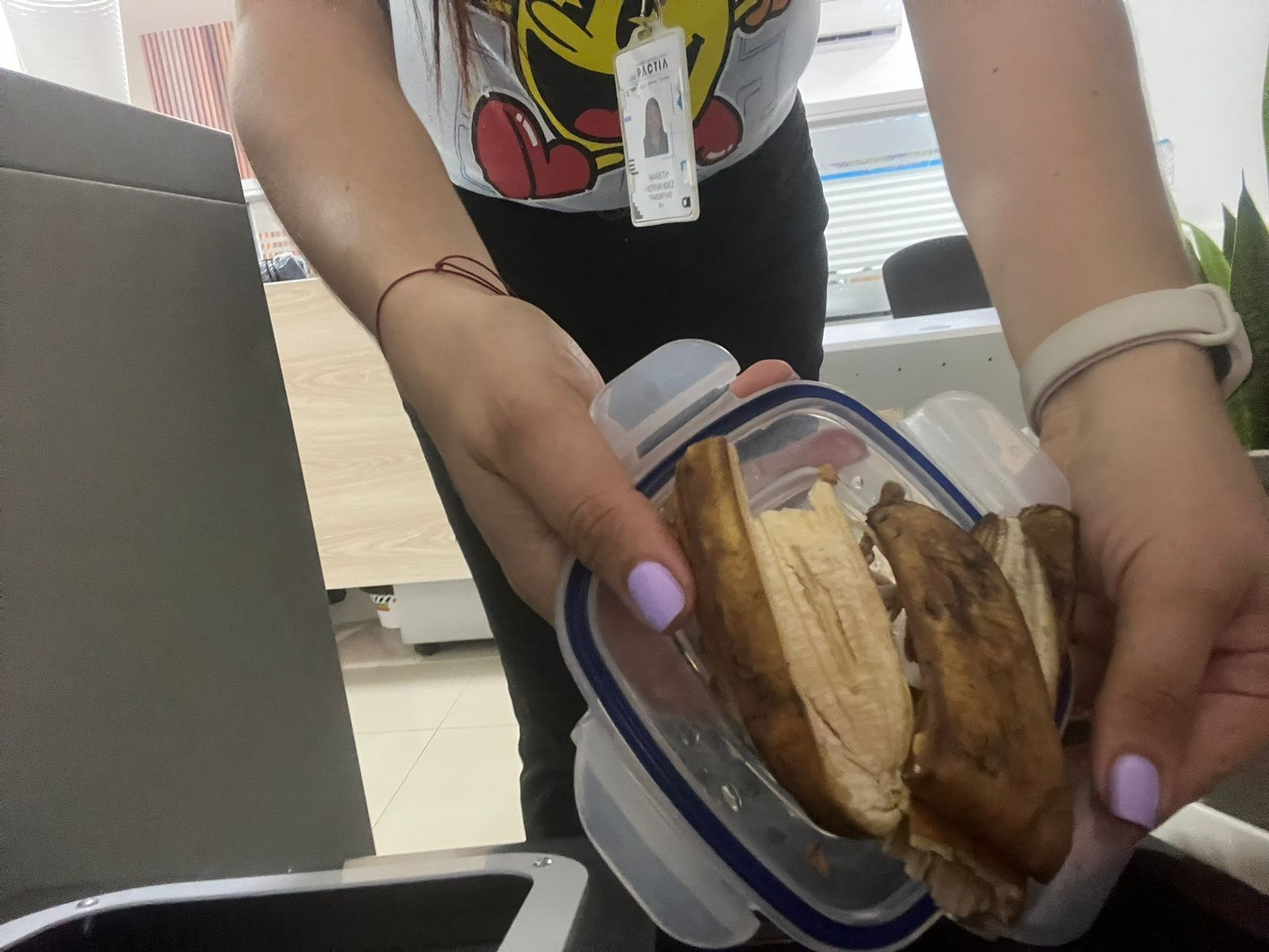Organico: (670, 438, 1086, 929)
